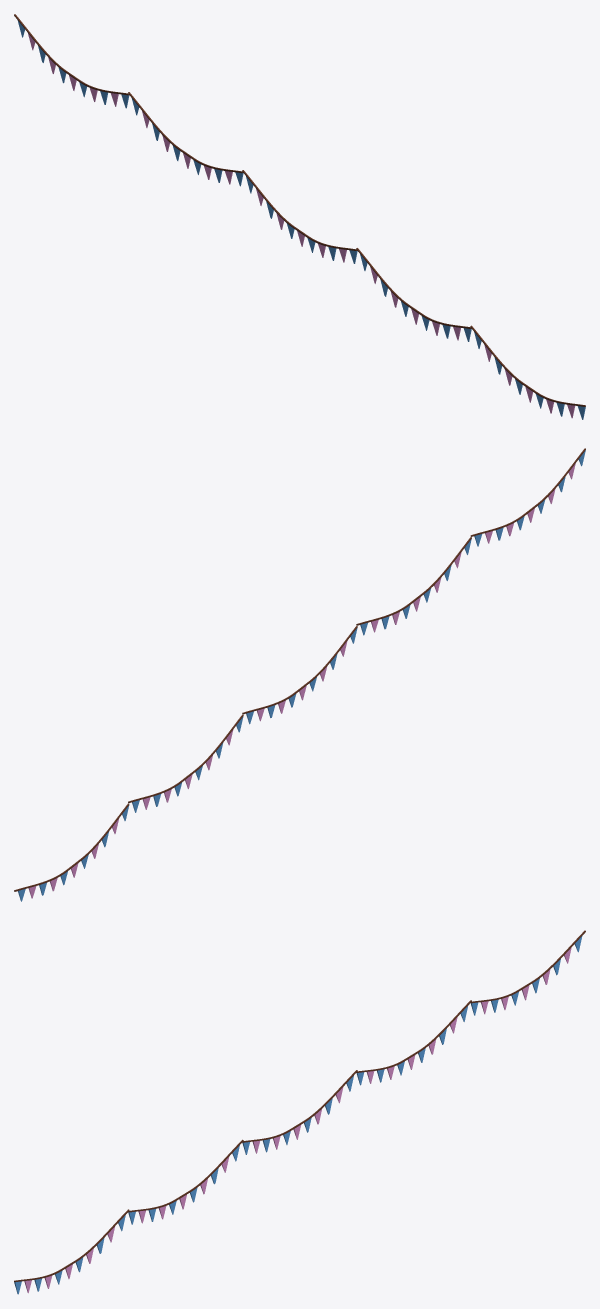
File: Flagbluepink.fbx
The picture shows the model from 3 angles, top to bottom: view 1: azimuth 30°, elevation 25°; view 2: azimuth 150°, elevation 25°; view 3: azimuth 330°, elevation 25°; orthographic projection. The views are drawn at different scales.
Visible parts, largest first — view 1: Cube.005; view 2: Cube.005; view 3: Cube.005.
Part boxes in pixels (x1,y1,x2,y2): Cube.005: (14,14,585,419); Cube.005: (14,448,585,901); Cube.005: (14,930,585,1294).
Size of the model in its own units: 63.29 by 192 by 2568.
